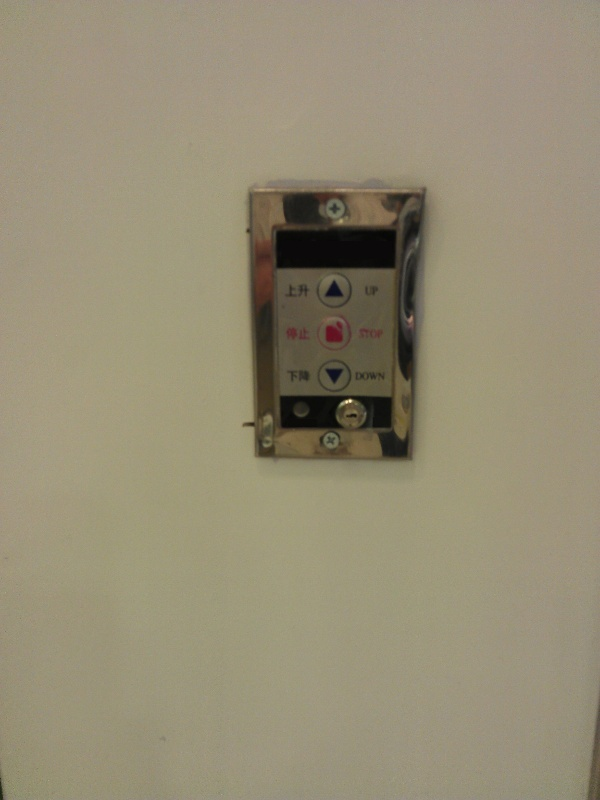text: (289, 283, 304, 299), (289, 326, 304, 341), (289, 369, 304, 383), (369, 328, 384, 340), (369, 371, 384, 382), (369, 285, 380, 298), (355, 371, 368, 382), (358, 328, 368, 340), (305, 283, 312, 299), (305, 326, 311, 341), (305, 369, 311, 383), (364, 285, 368, 298), (285, 283, 288, 299), (285, 326, 288, 341), (286, 369, 288, 383), (385, 371, 387, 382)
